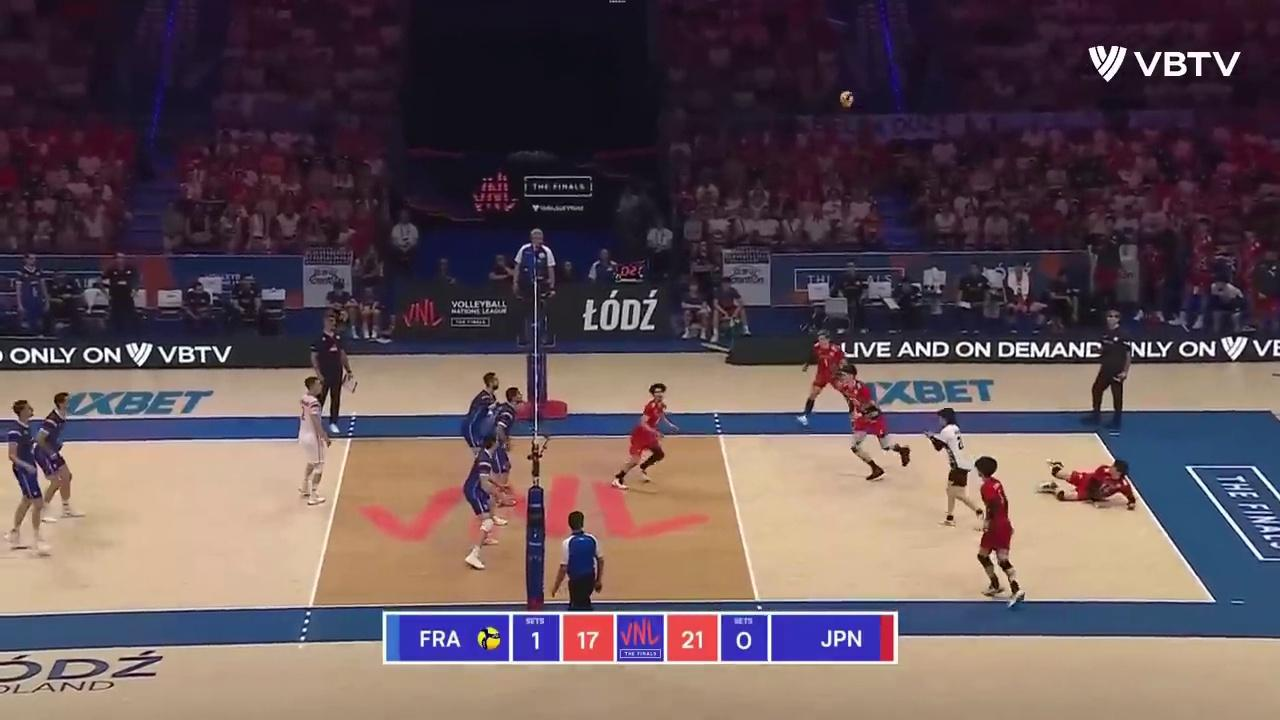ball: (840, 91, 854, 109)
